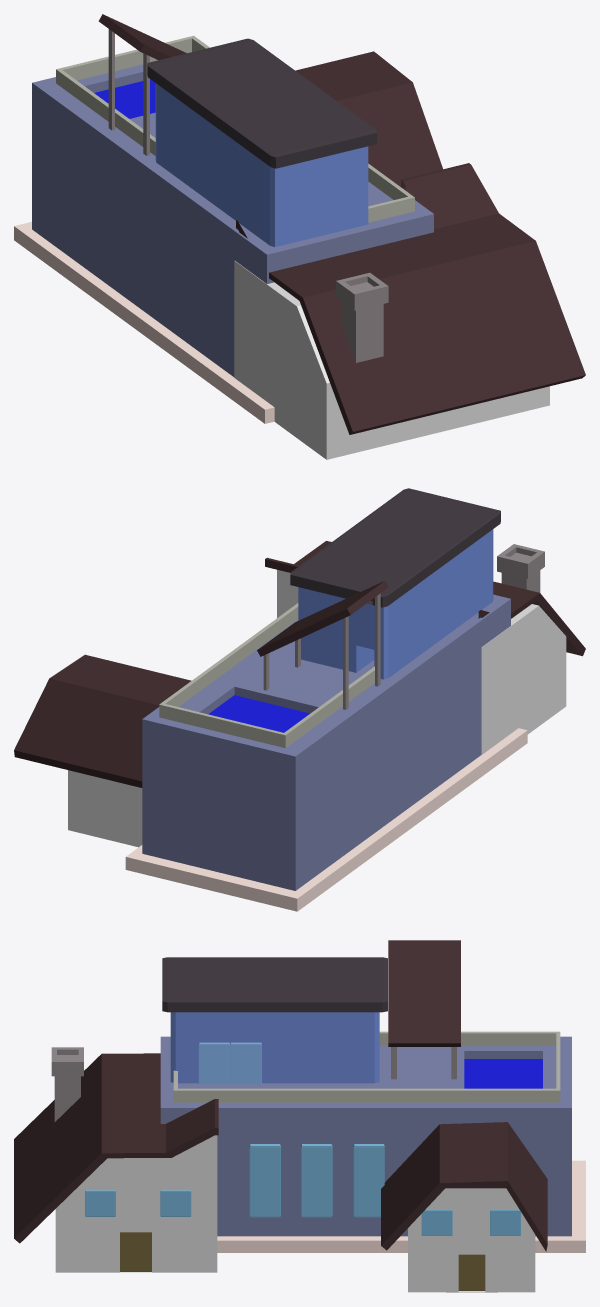
Rendered from lobbyhouse.fbx.
3 renders of one model, top to bottom at view 1: azimuth 30°, elevation 25°; view 2: azimuth 150°, elevation 25°; view 3: azimuth 270°, elevation 25°, orthographic. The views are drawn at different scales.
Visible parts, largest first — view 1: Plane.001, Cube, Cube.002, Cube.007, Cube.010, Plane.002, Cube.009, Cube.020, Cube.003, Cube.004, Cube.008, Cube.011 (+5 smaller); view 2: Cube, Plane.002, Cube.010, Cube.002, Cube.007, Cube.009, Cube.001, Cube.005, Plane.001, Cube.011, Plane, Cube.004 (+5 smaller); view 3: Cube, Plane.001, Cube.007, Cube.010, Cube.002, Plane.002, Cube.001, Cube.011, Cube.005, Cube.009, Plane, Cube.026 (+13 smaller).
Part boxes in pixels (bbox=[...]): Plane.001: bbox=[236, 163, 585, 434]; Cube: bbox=[32, 64, 433, 376]; Cube.002: bbox=[155, 83, 368, 246]; Cube.007: bbox=[234, 260, 549, 459]; Cube.010: bbox=[147, 38, 376, 168]; Plane.002: bbox=[295, 51, 442, 186]; Cube.009: bbox=[14, 221, 274, 423]; Cube.020: bbox=[341, 282, 383, 362]; Cube.003: bbox=[56, 70, 155, 155]; Cube.004: bbox=[56, 35, 195, 83]; Cube.008: bbox=[336, 272, 388, 310]; Cube.011: bbox=[98, 14, 186, 60]; Cube: bbox=[142, 594, 510, 890]; Plane.002: bbox=[14, 654, 191, 787]; Cube.010: bbox=[290, 488, 500, 607]; Cube.002: bbox=[298, 529, 493, 679]; Cube.007: bbox=[277, 569, 566, 754]; Cube.009: bbox=[125, 728, 527, 911]; Cube.001: bbox=[68, 770, 142, 847]; Cube.005: bbox=[162, 603, 298, 706]; Plane.001: bbox=[265, 541, 585, 656]; Cube.011: bbox=[257, 581, 388, 656]; Plane: bbox=[208, 695, 309, 732]; Cube.004: bbox=[159, 703, 287, 748]; Cube: bbox=[160, 1036, 571, 1236]; Plane.001: bbox=[14, 1053, 218, 1243]; Cube.007: bbox=[55, 1135, 217, 1272]; Cube.010: bbox=[162, 957, 387, 1012]; Cube.002: bbox=[170, 1012, 379, 1083]; Plane.002: bbox=[381, 1122, 547, 1251]; Cube.001: bbox=[408, 1188, 535, 1292]; Cube.011: bbox=[388, 940, 460, 1046]; Cube.005: bbox=[173, 1088, 556, 1102]; Cube.009: bbox=[217, 1160, 585, 1252]; Plane: bbox=[464, 1059, 542, 1088]; Cube.026: bbox=[301, 1144, 332, 1217].
Size of the model in its own units: 4357 by 3456 by 7453.
